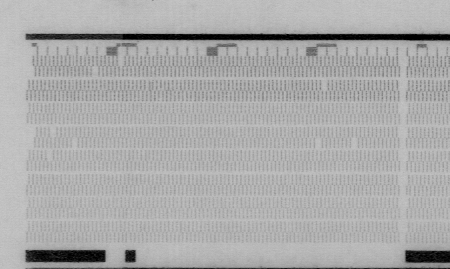Broken hole: (20, 122, 39, 149), (24, 53, 39, 79), (90, 64, 103, 79), (313, 136, 325, 150), (349, 137, 361, 150), (319, 79, 331, 92), (48, 127, 60, 140), (115, 54, 126, 68), (70, 137, 81, 149), (44, 149, 54, 162)
